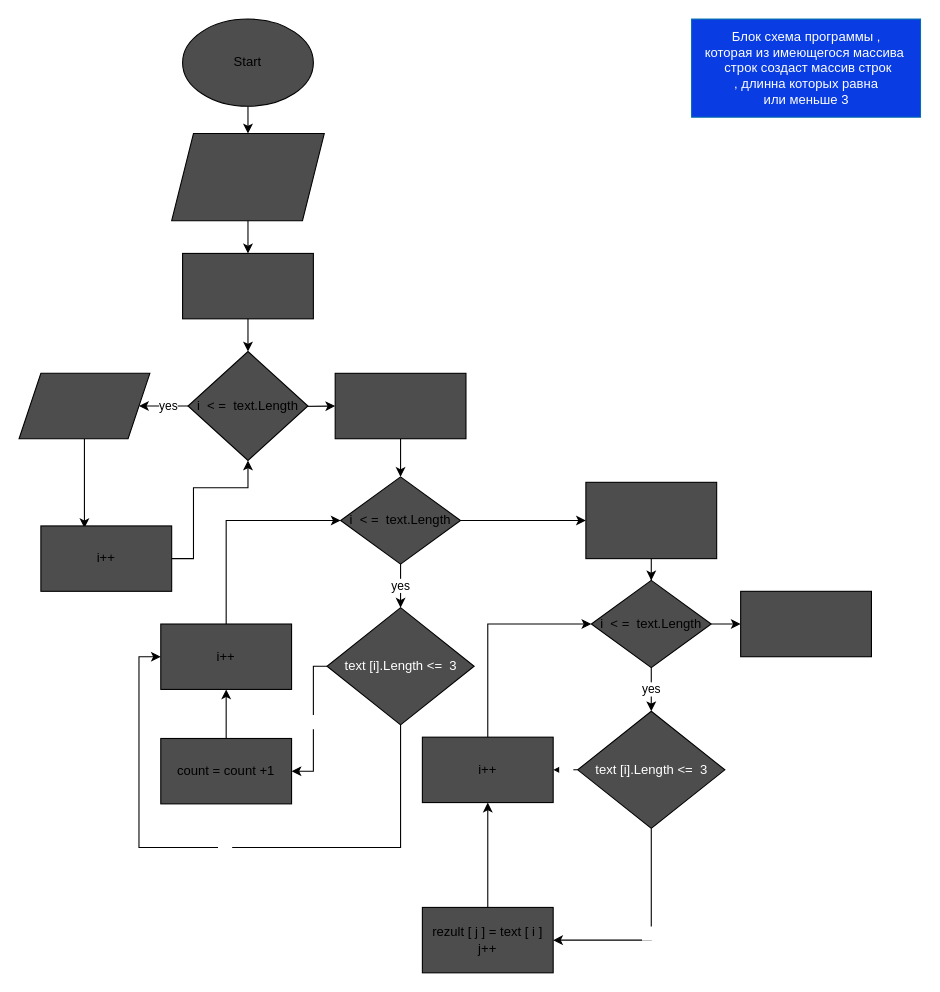
Image size: 940x992. Some labels were removed from this diagram. The shapes that lost their labels are listed below. From the top down, each one's centre as x and y in pixels, then its label:
point 247,176: Ввод text.Length (длинна начального массива text [ ])
point 247,285: i = 0
point 84,405: Ввод text [ i ]
point 400,405: i = 0 count = 0
point 651,520: создание массива rezult [ ] rezult.Length = count i=0 j=0
point 805,623: Вывод rezult [ ]
